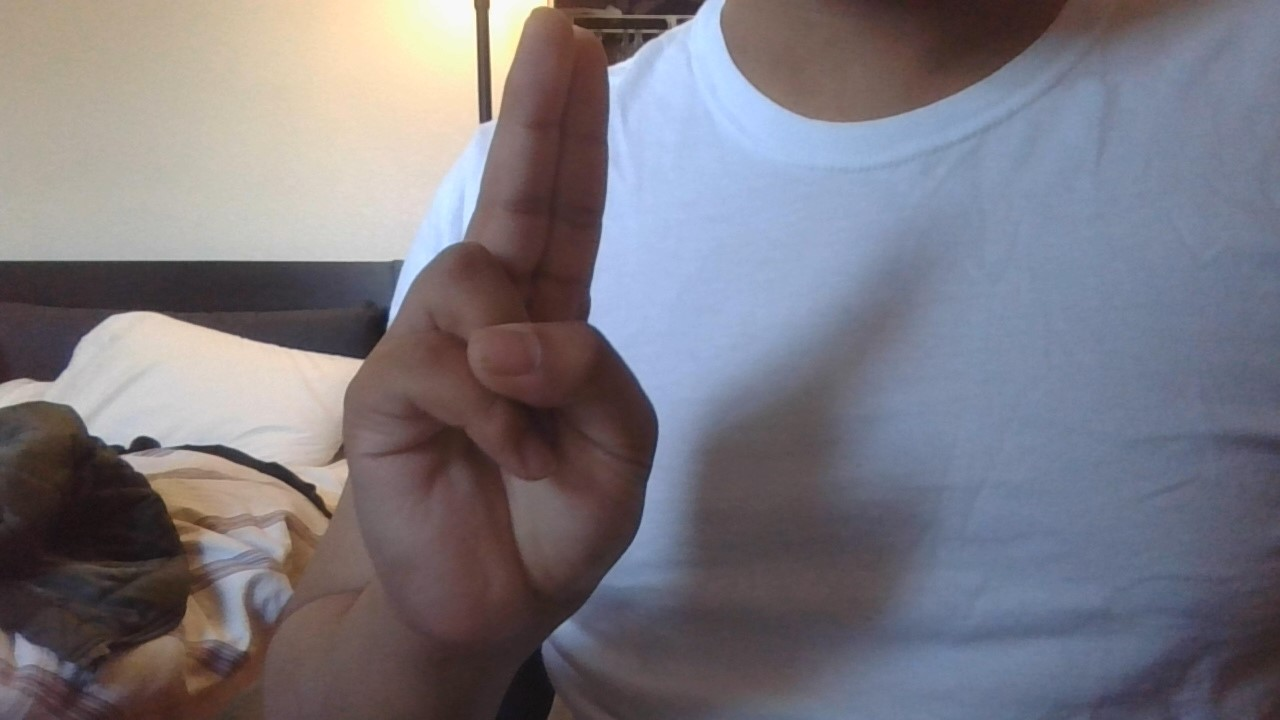u: (302, 6, 693, 665)
